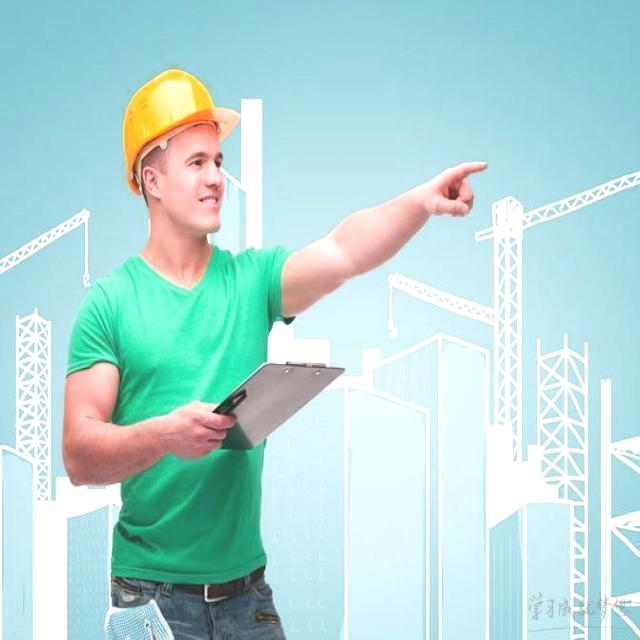hand_noglove: (158, 386, 236, 481), (409, 151, 491, 228)
head_helmet: (121, 60, 240, 179)
person: (67, 34, 334, 634)
